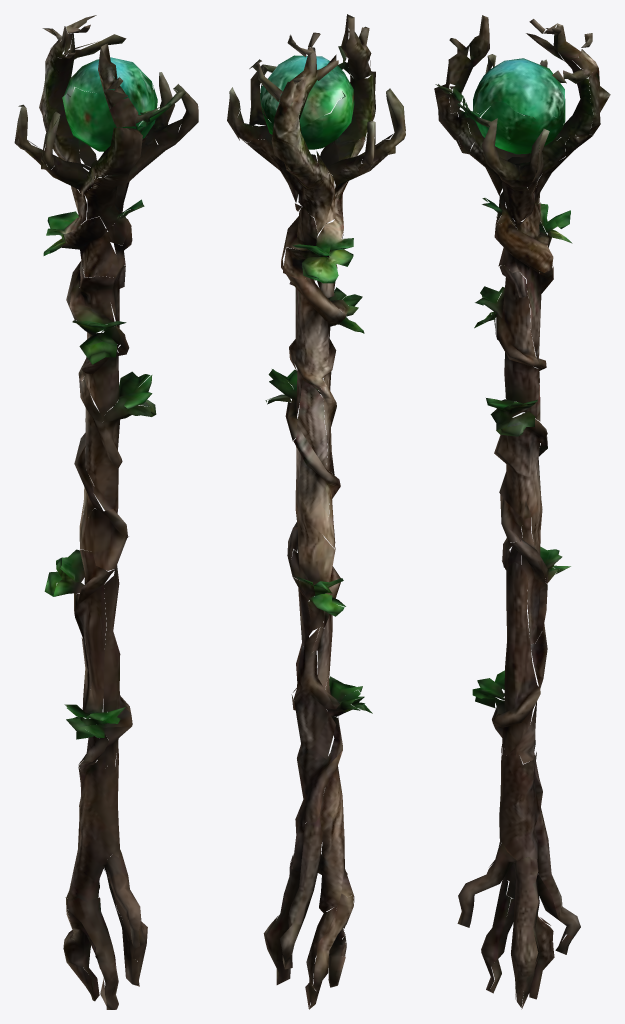
The model's file is greenwood_staff.glb.
3 renders of one model, left to right at view 1: azimuth 30°, elevation 25°; view 2: azimuth 150°, elevation 25°; view 3: azimuth 270°, elevation 25°, orthographic.
Parts seen in each view (by area): view 1: greenwood_staff; view 2: greenwood_staff; view 3: greenwood_staff.
Boxes of the visible parts, x1,y1,x2,y2 form: greenwood_staff: [14, 15, 198, 1009]; greenwood_staff: [227, 14, 405, 1009]; greenwood_staff: [434, 15, 610, 1009].
Size of the model in its own units: 0.2494 by 1.5 by 0.2449.
1 material, 1 textured.
